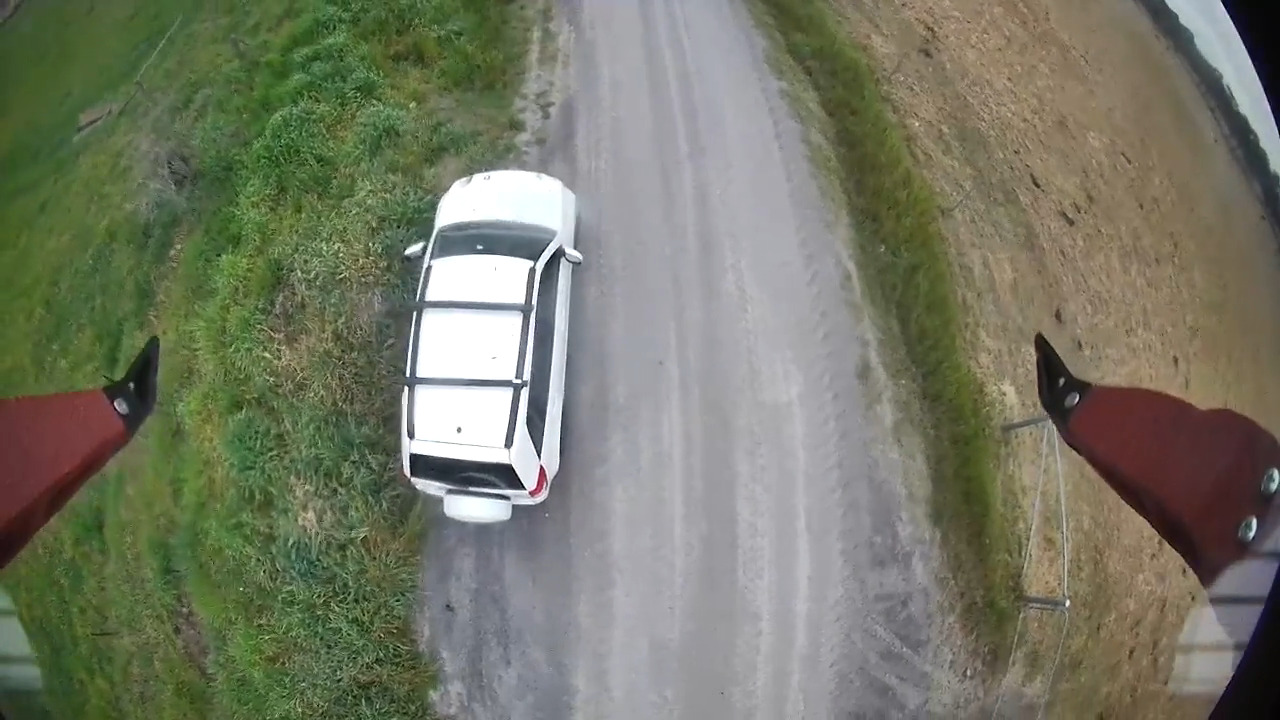Car: (399, 169, 583, 523)
